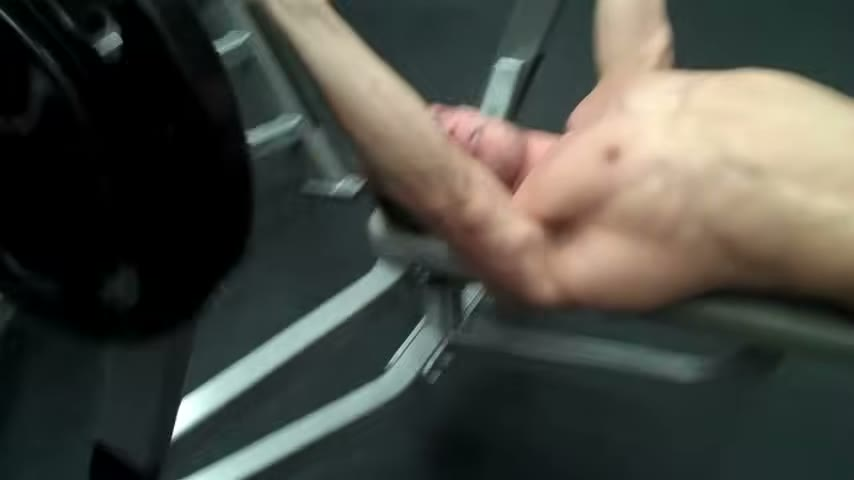barbell_plate_side: (609, 10, 854, 469)
